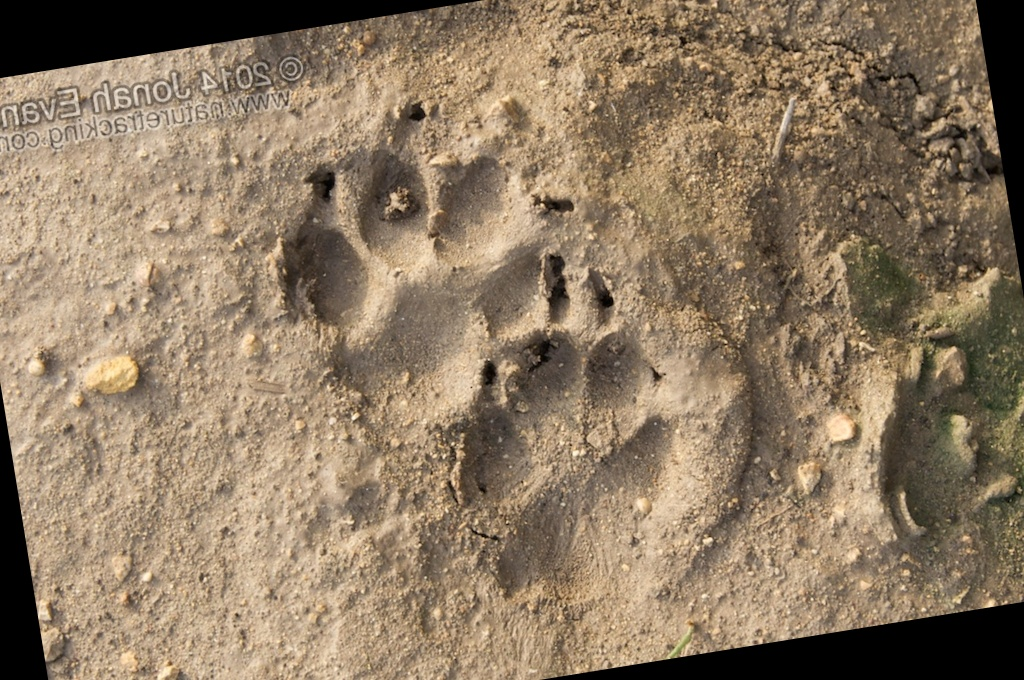fox: (219, 38, 776, 680)
